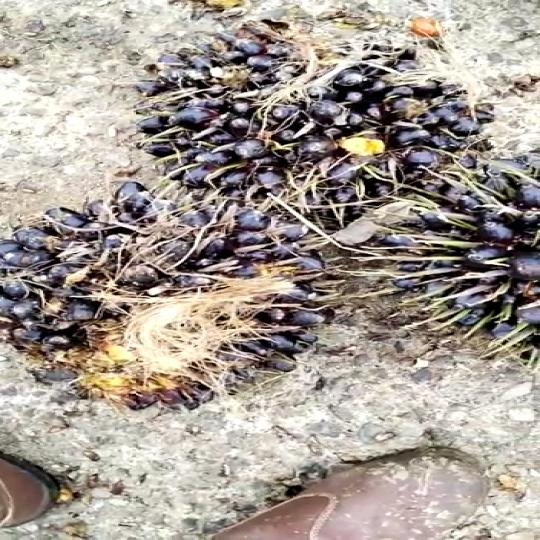mentah: (136, 9, 513, 222), (0, 180, 332, 406), (306, 159, 540, 391)
